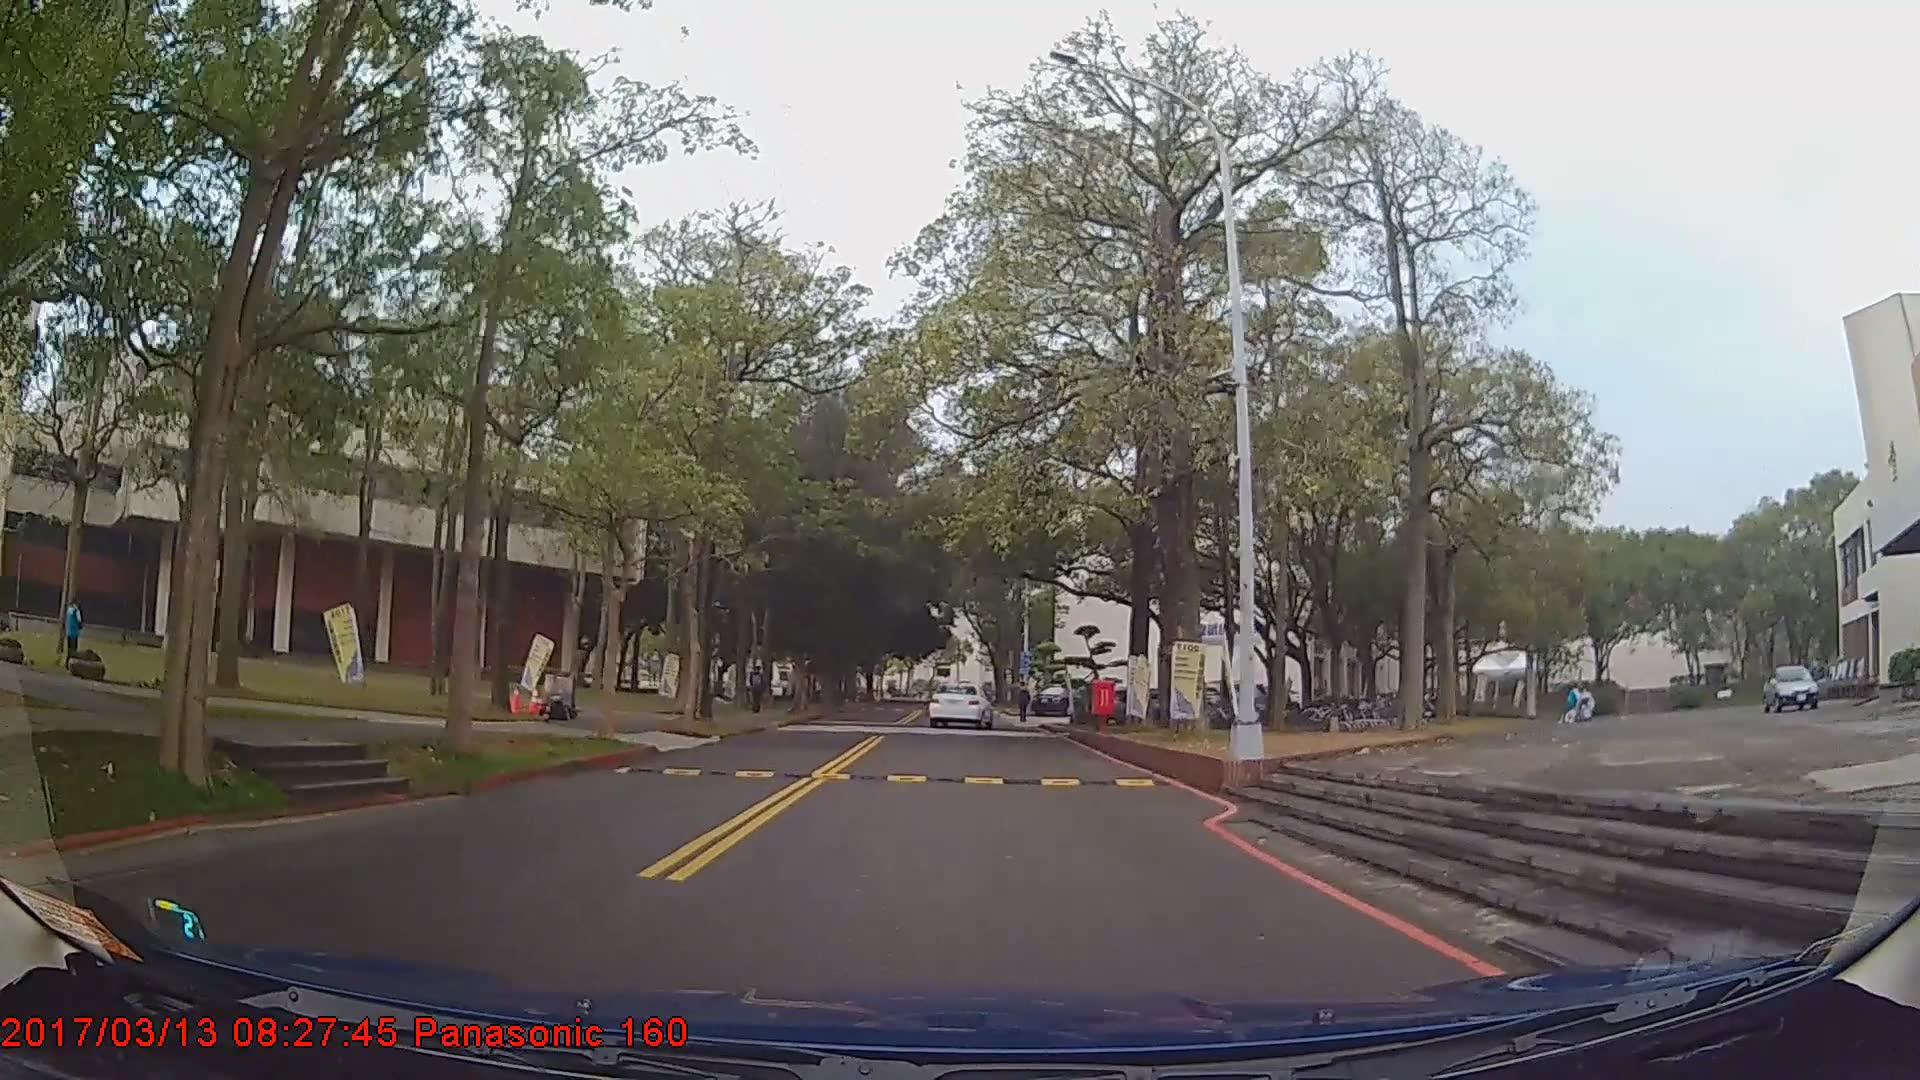pedestrian: (61, 599, 86, 677), (746, 666, 768, 716)
vehicle: (1759, 659, 1832, 711), (928, 681, 993, 729)
